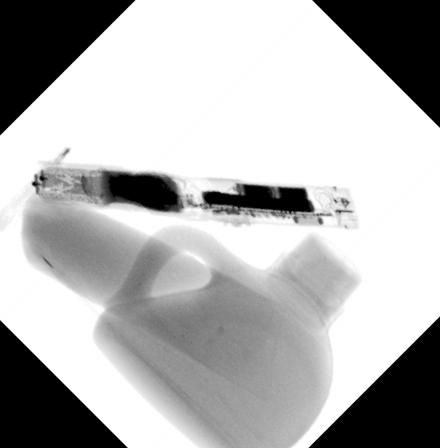Baton: (25, 157, 361, 230)
